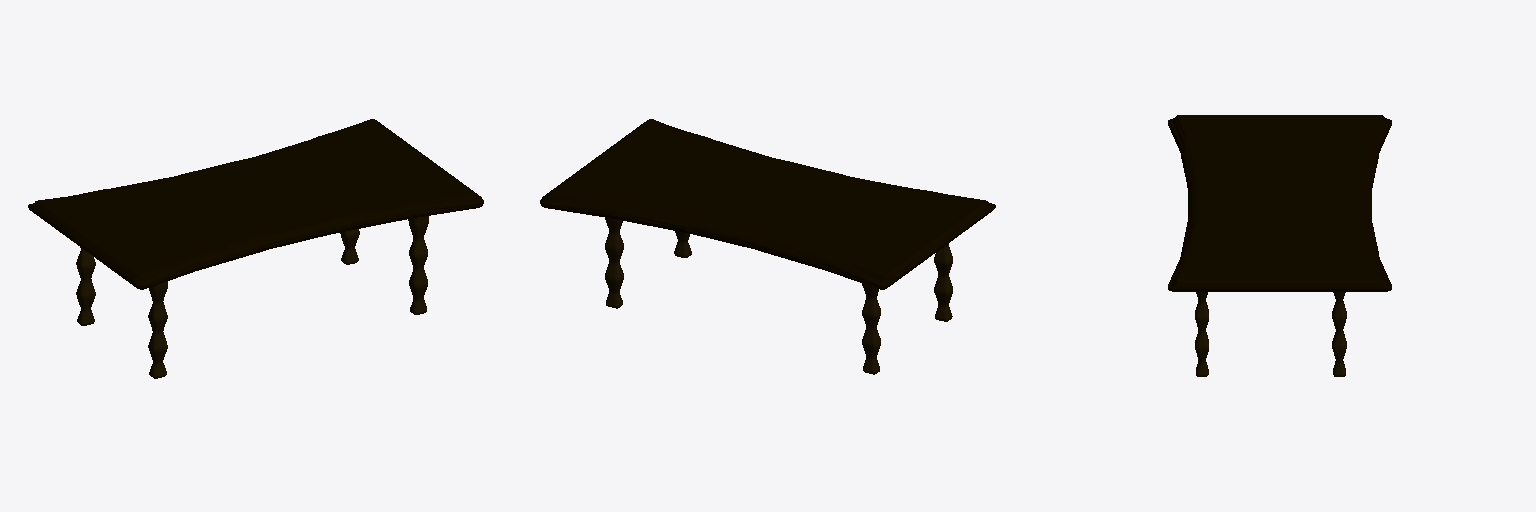
Rendered from Texture_Table.obj.
3 renders of one model, left to right at view 1: azimuth 30°, elevation 25°; view 2: azimuth 150°, elevation 25°; view 3: azimuth 270°, elevation 25°, orthographic.
Visible parts, largest first — view 1: Table_mesh1; view 2: Table_mesh1; view 3: Table_mesh1.
Boxes of the visible parts, <box> form: Table_mesh1: <box>28,119,483,378</box>; Table_mesh1: <box>540,119,995,374</box>; Table_mesh1: <box>1168,115,1391,376</box>.
Size of the model in its own units: 12.15 by 3.9 by 6.78.